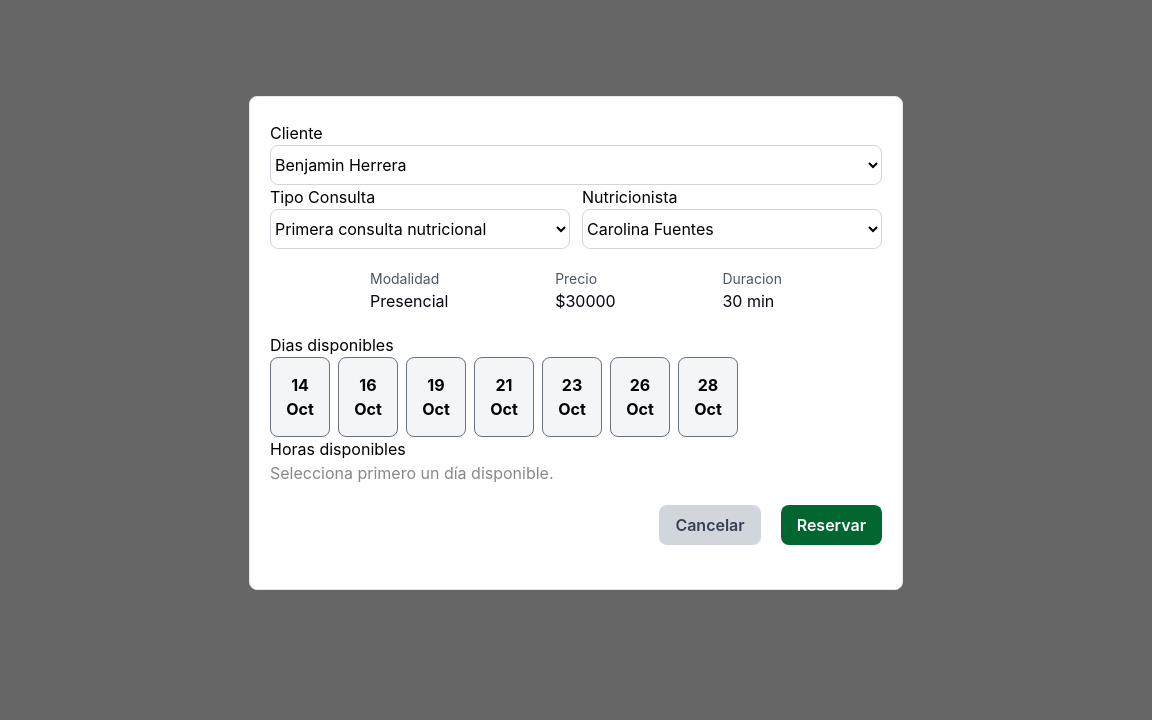
FormularioCrearReservaSecreatario › muestra mensajes de error si se presiona Reservar sin haber elegido fecha y hora
Click the button "Reservar" at (831, 525), box [781,505,882,545]
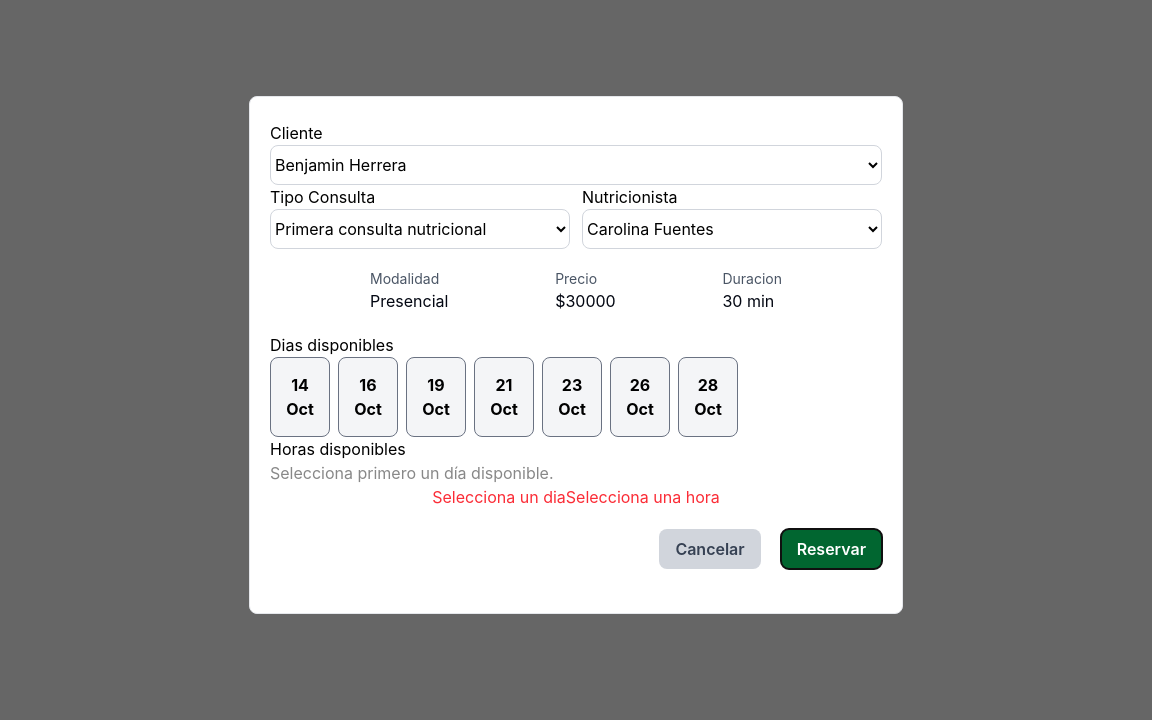
expect the text "Selecciona un dia" is shown: met, box [432,485,566,509]
